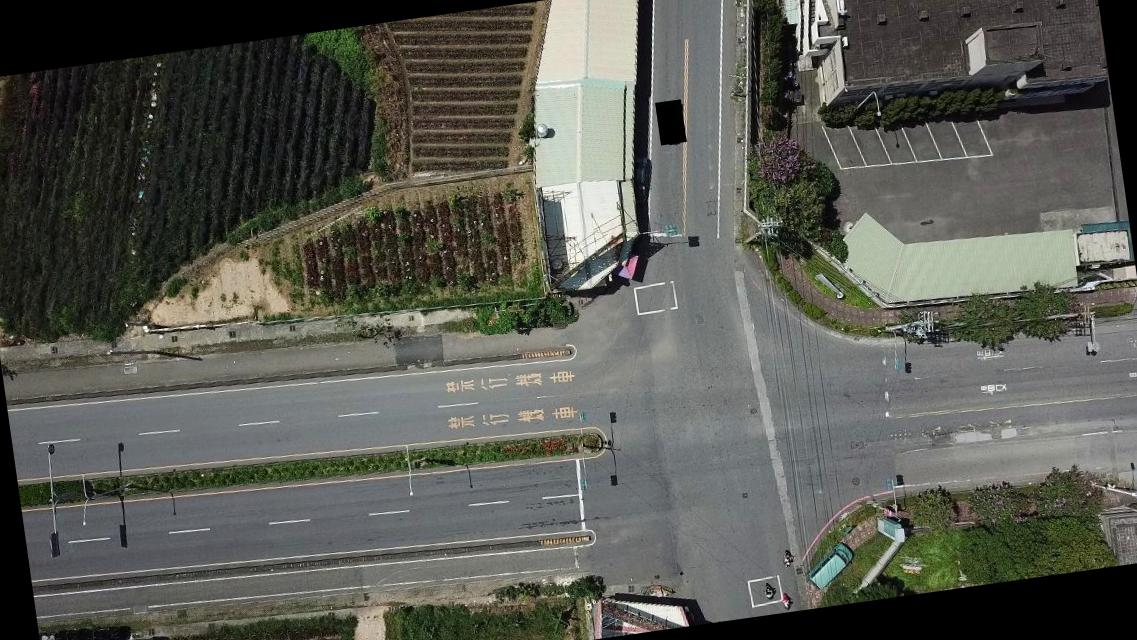vehicle: (803, 540, 859, 592)
